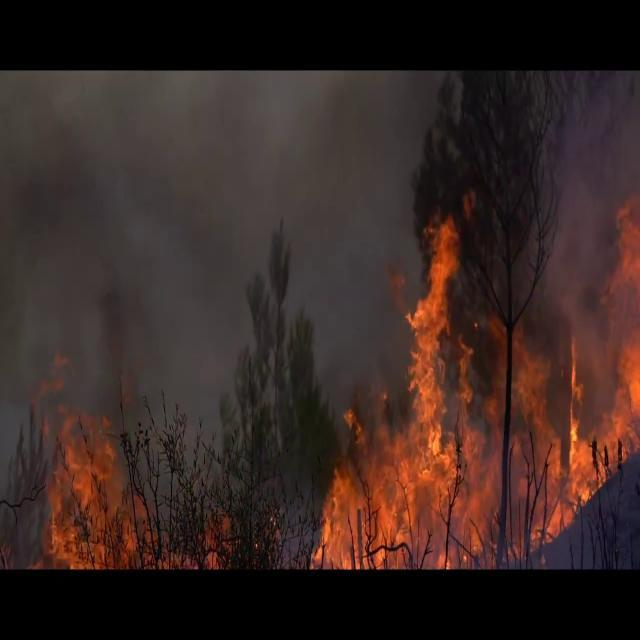Fire: (312, 210, 582, 561), (32, 390, 152, 570)
Smoke: (0, 71, 406, 473)
